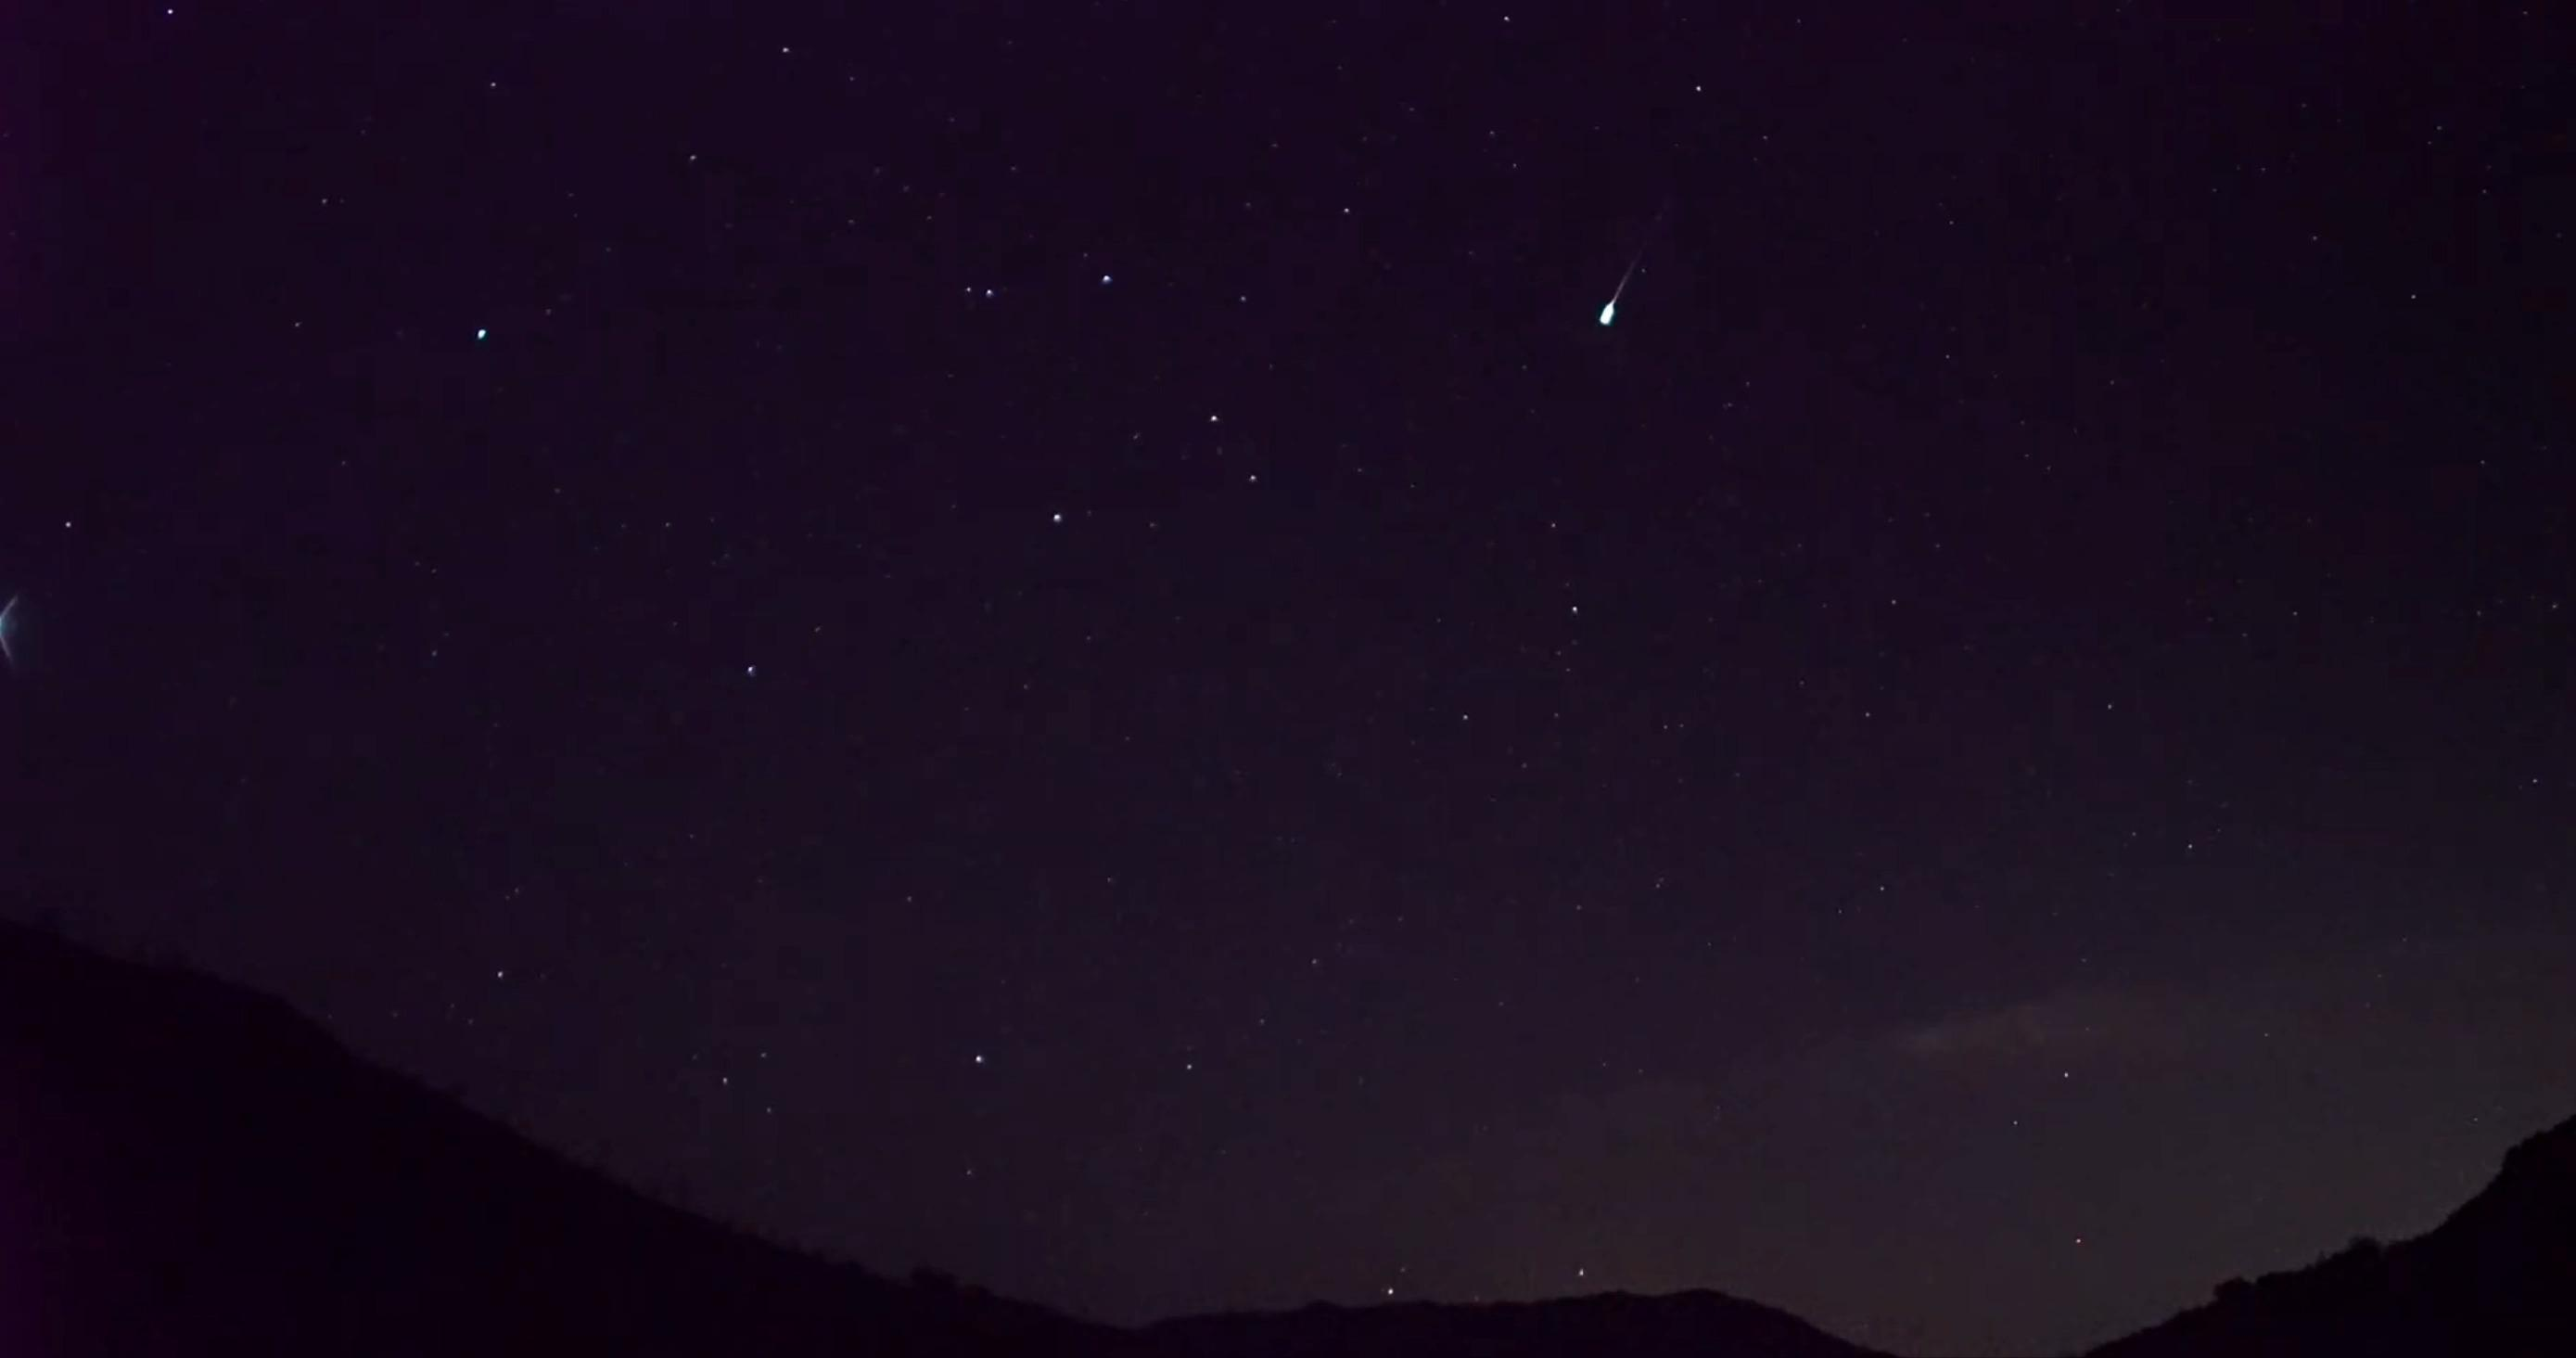meteorite: (1550, 256, 1680, 342)
